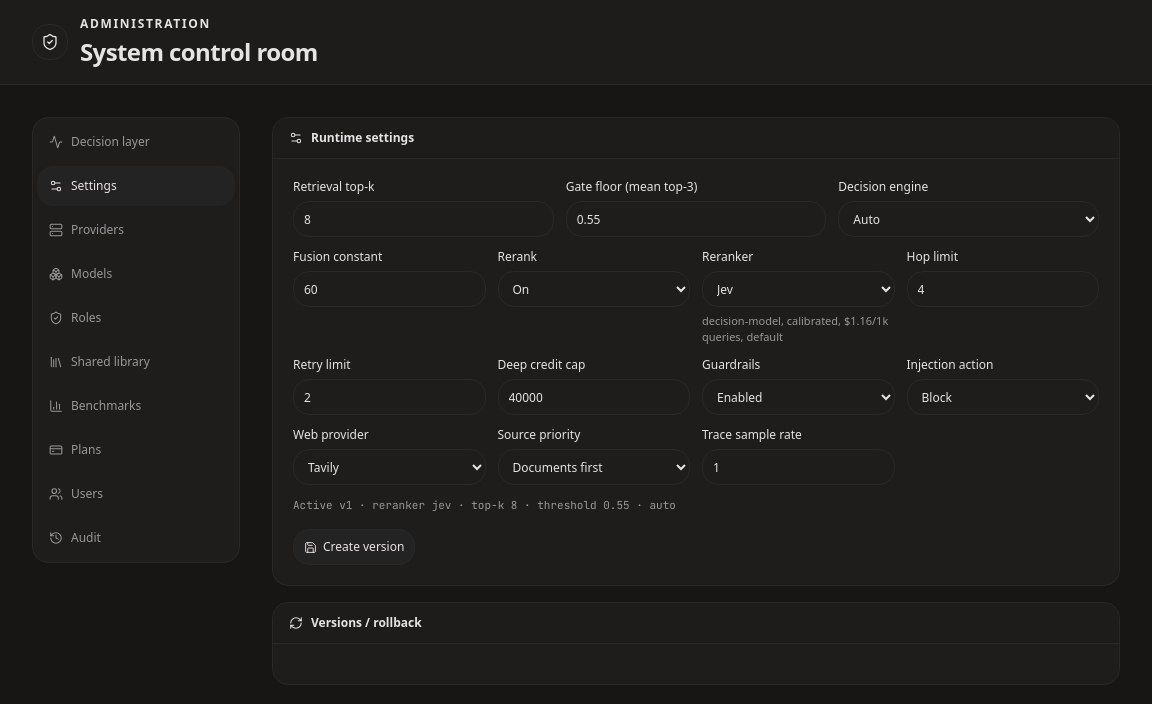
Scenario: reranker picker and benchmarks › renders the stored benchmark numbers with their source run
Click the button "Benchmarks" at [136, 406], box [37,386,235,426]
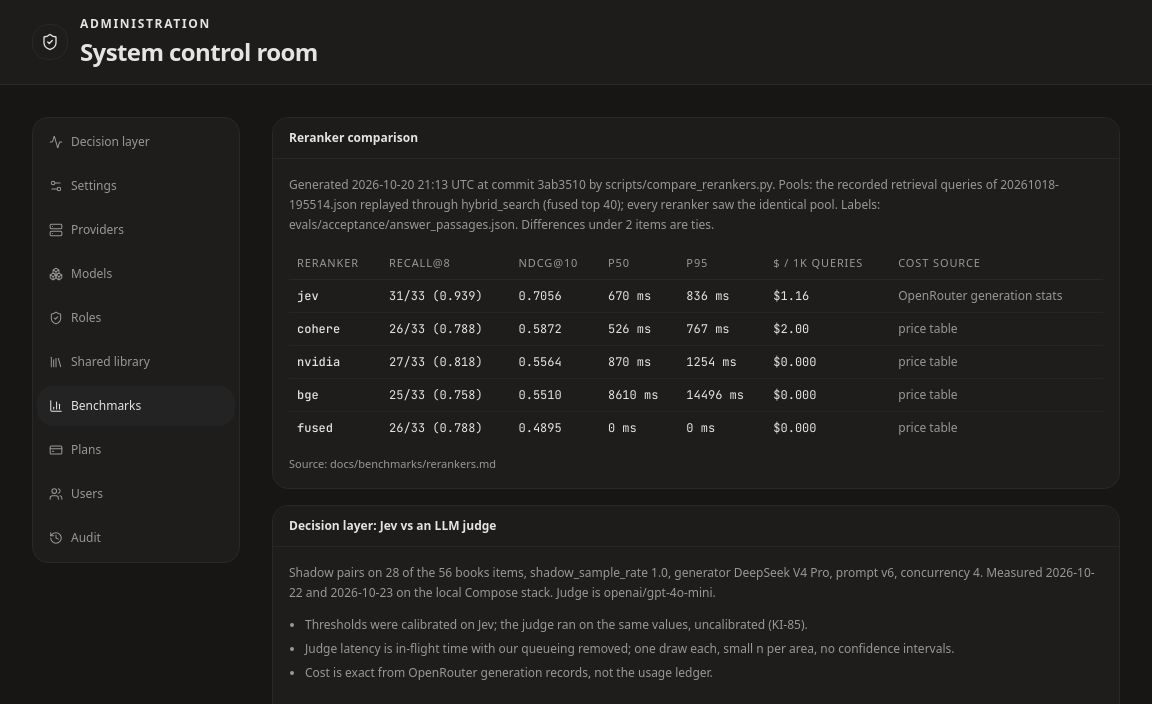
Result: the text "20261018-195514.json" is shown at [289,176,1059,233]
Result: the text "31/33 (0.939)" is shown at [381,280,510,312]
Result: the text "openai/gpt-4o-mini" is shown at [289,564,1095,601]
